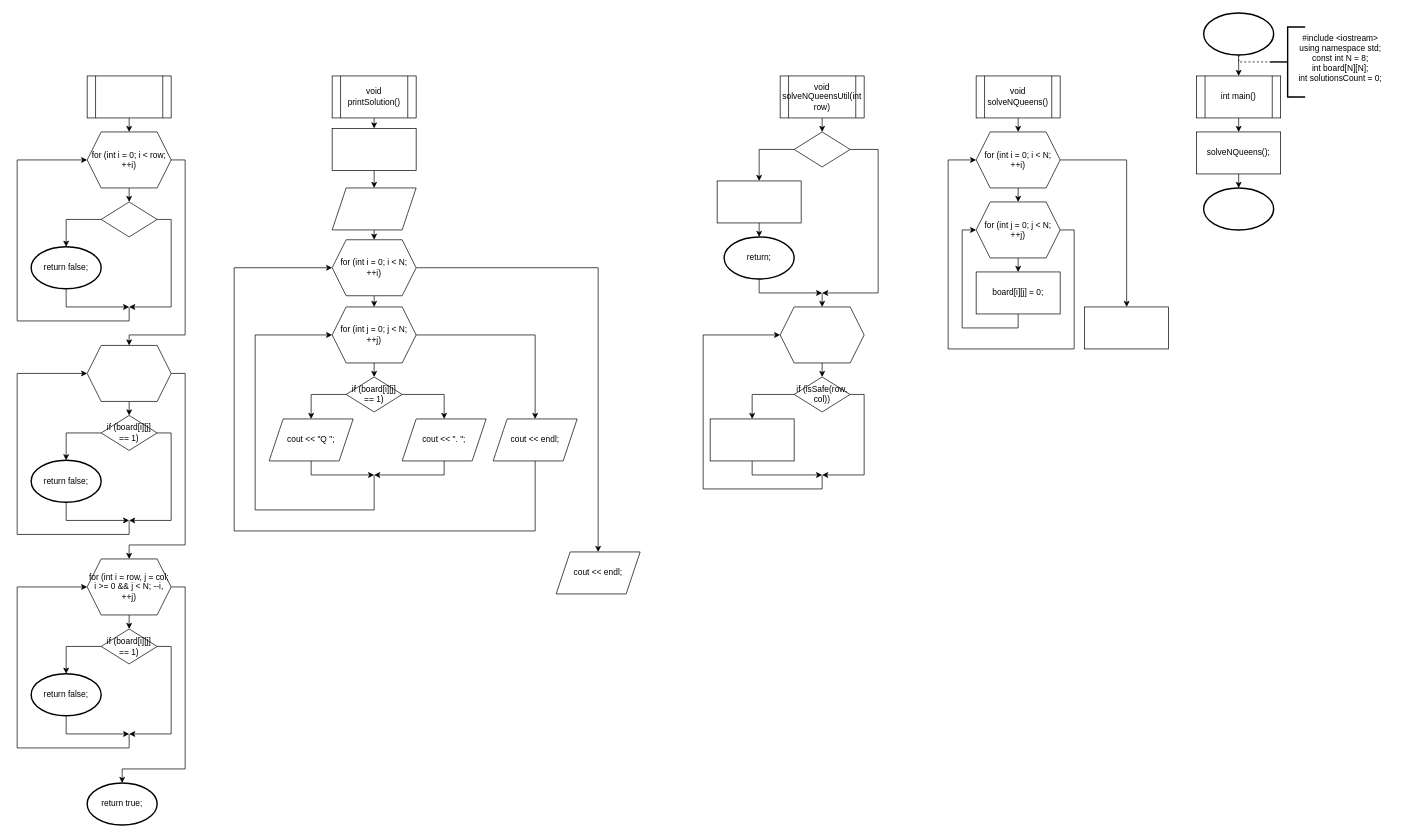
Image size: 1401x837. Some labels were removed from this diagram. The shapes that lost their labels are listed below. From the top down, each one's box as (x1, y1, x2, y2) in pixels, then its label:
(1203, 12, 1274, 55): Начало
(86, 75, 171, 118): bool isSafe(int row, int col)
(331, 128, 416, 170): setlocale(LC_ALL, "ru");
(793, 131, 850, 167): if (row >= N)
(100, 201, 157, 237): if (board[i][col] == 1)
(331, 187, 416, 230): cout << "Решение " << ++solutionsCount << ":" << endl;
(716, 180, 801, 223): printSolution();
(1203, 187, 1274, 230): return 0;
(779, 306, 864, 363): for (int col = 0; col < N; ++col)
(1084, 306, 1169, 349): solveNQueensUtil(0);
(86, 345, 171, 401): for (int i = row, j = col; i >= 0 && j >= 0; --i, --j)
(709, 418, 794, 461): board[row][col] = 1; solveNQueensUtil(row + 1); board[row][col] = 0;
